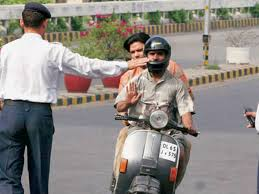helmet: (143, 35, 172, 75)
